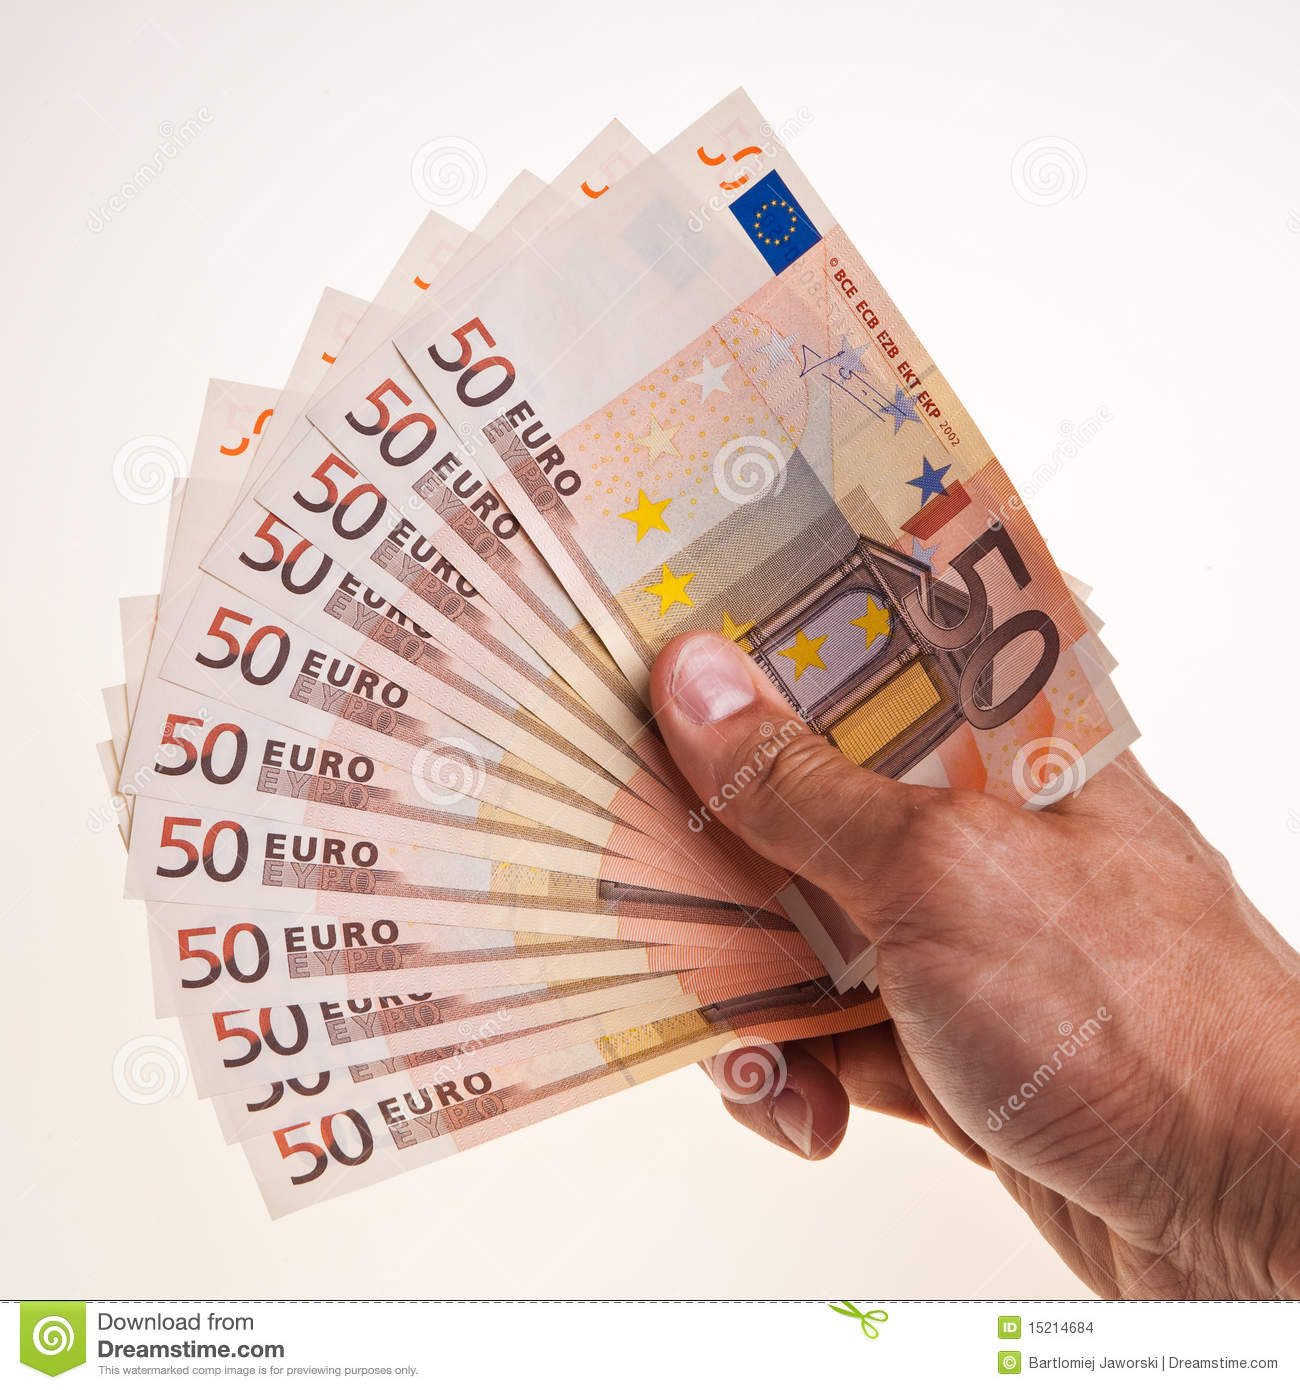billete: (93, 76, 1148, 1230)
